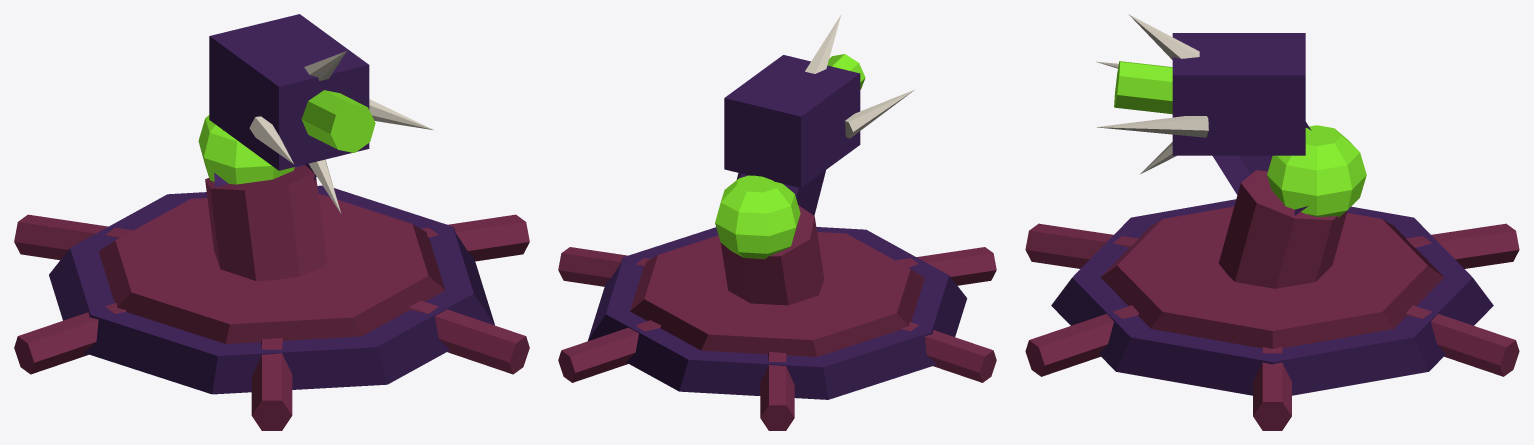
The model's file is krynn_turret.obj.
3 renders of one model, left to right at view 1: azimuth 30°, elevation 25°; view 2: azimuth 150°, elevation 25°; view 3: azimuth 270°, elevation 25°, orthographic. The views are drawn at different scales.
Visible parts, largest first — view 1: ModelMesh; view 2: ModelMesh; view 3: ModelMesh.
Part boxes in pixels (x1,y1,x2,y2): ModelMesh: [14, 14, 529, 430]; ModelMesh: [558, 15, 996, 430]; ModelMesh: [1025, 14, 1519, 430].
Size of the model in its own units: 0.9935 by 0.6002 by 0.8906.
